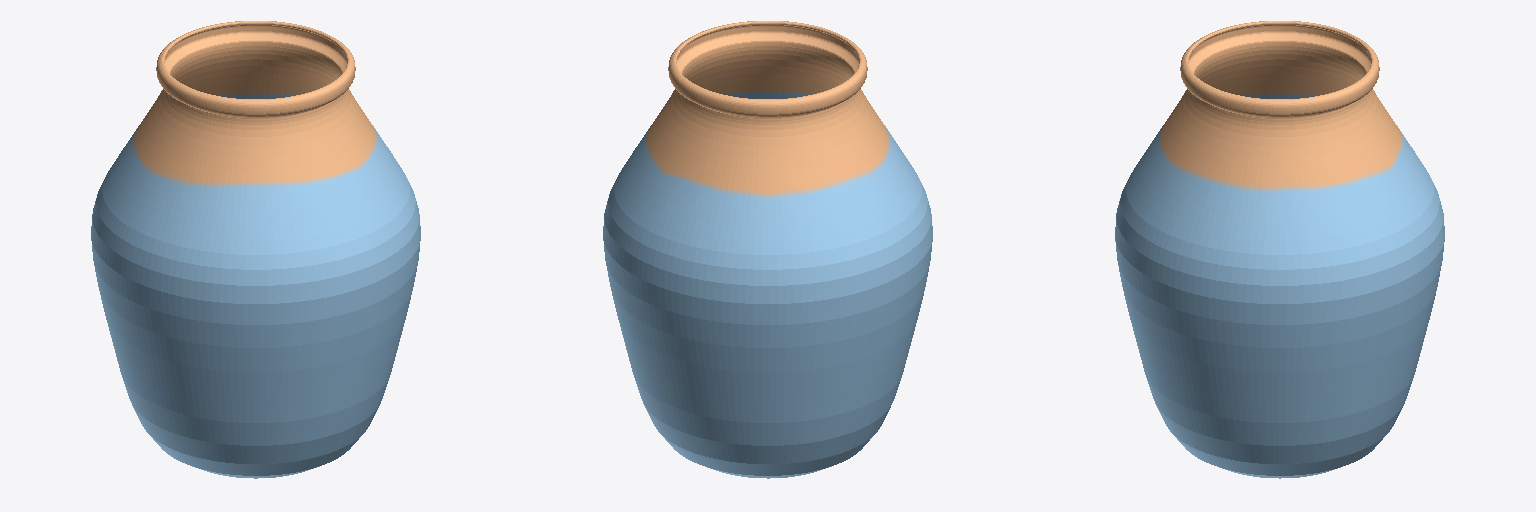
3 views of the same model, side by side, from view 1: azimuth 30°, elevation 25°; view 2: azimuth 150°, elevation 25°; view 3: azimuth 270°, elevation 25° (orthographic).
Parts seen in each view (by area): view 1: Circle.005; view 2: Circle.005; view 3: Circle.005.
Part boxes in pixels (bbox=[...]): Circle.005: bbox=[91, 21, 420, 478]; Circle.005: bbox=[603, 21, 932, 478]; Circle.005: bbox=[1115, 21, 1444, 478].
Size of the model in its own units: 1.09 by 1.42 by 1.09.
1 materials, 1 textured.